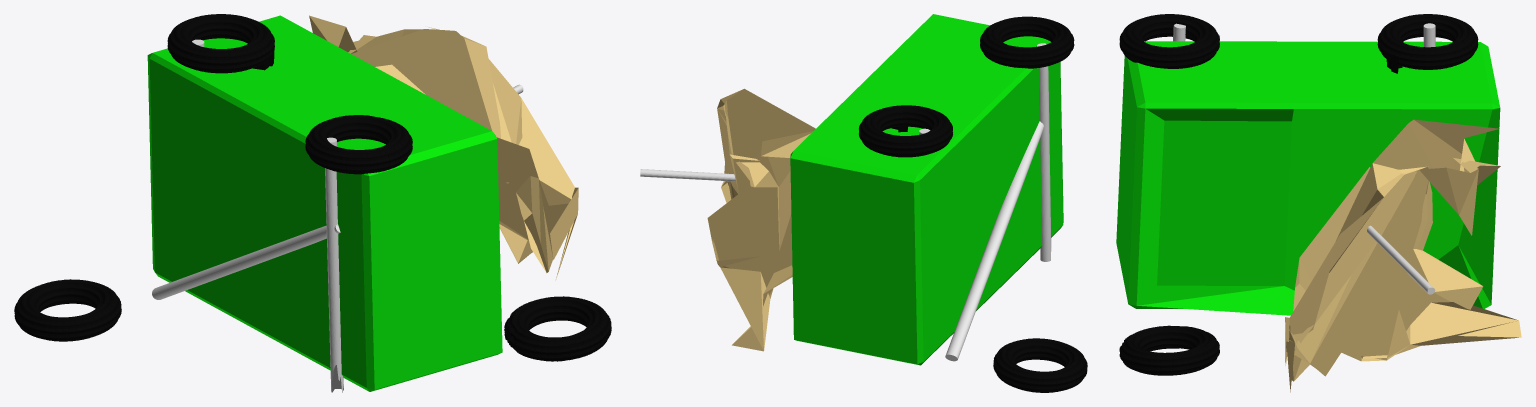
The model's file is cart4broken.fbx.
3 renders of one model, left to right at view 1: azimuth 30°, elevation 25°; view 2: azimuth 150°, elevation 25°; view 3: azimuth 270°, elevation 25°, orthographic. The views are drawn at different scales.
Visible parts, largest first — view 1: Cylinder; view 2: Cylinder; view 3: Cylinder.
Part boxes in pixels (x1,y1,x2,y2): Cylinder: [14, 14, 611, 392]; Cylinder: [640, 14, 1087, 392]; Cylinder: [1116, 14, 1521, 392].
Size of the model in its own units: 2126 by 1047 by 1589.
